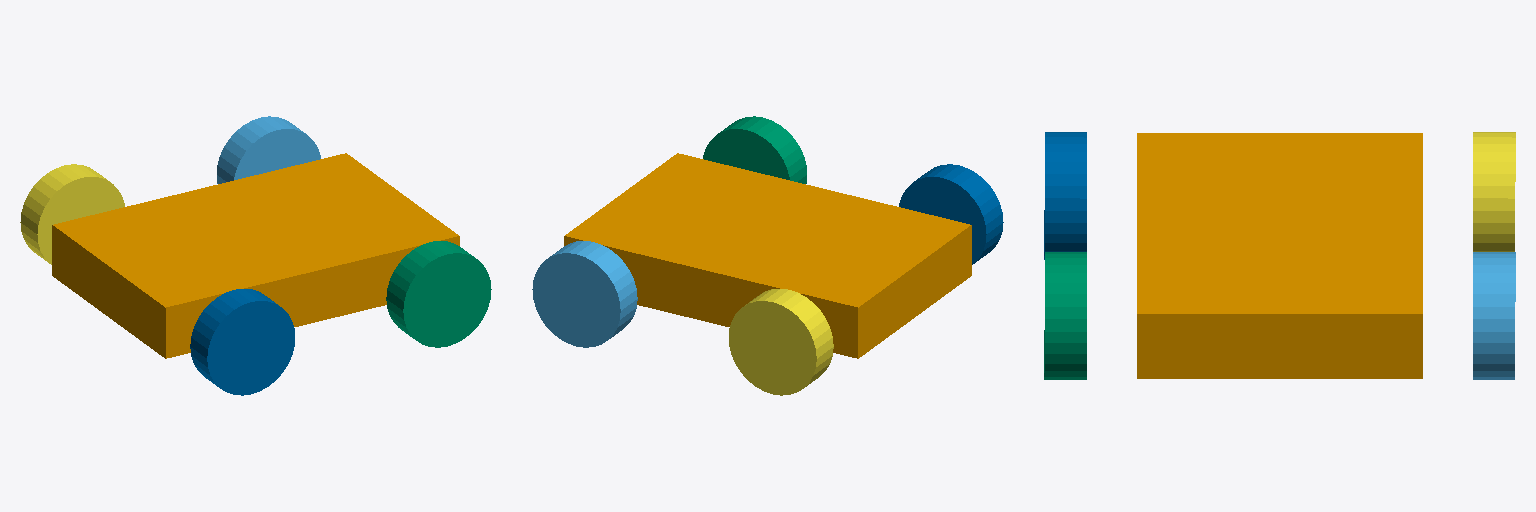
URDF robot description (four_wheels):
<?xml version="1.0"?>
<robot name ="four_wheels">

<material name="blue">
    <color rgba="0 0 0.8 1"/>
</material>
<material name="black">
    <color rgba="0 0 0 1"/>
</material>
<material name="white">
    <color rgba="1 1 1 1"/>
</material>
<material name="red">
    <color rgba="0.8 0 0 1"/>
</material>

<link name = "chassis">
    <visual>
        <geometry>
            <box size="3 2 0.5"/>
        </geometry>
        <!-- <material name="red"/> -->
    </visual>
    <collision>
        <geometry>
            <box size="3 2 0.5"/>
        </geometry>
    </collision>
    <inertial>
        <mass value="20"/>
        <inertia ixx="1.0" ixy="0.0" ixz="0.0" iyy="1.0" iyz="0.0" izz="1.0"/>
    </inertial>
</link>

<link name = "wheel_fl">
    <visual>
        <geometry>
            <cylinder length = "0.3" radius = "0.45"/>
        </geometry>
        <!-- <material name="red"/> -->
    </visual>
    <collision>
        <geometry>
            <cylinder length = "0.3" radius = "0.45"/>
        </geometry>
    </collision>
    <inertial>
        <mass value="1"/>
        <inertia ixx="1.0" ixy="0.0" ixz="0.0" iyy="1.0" iyz="0.0" izz="1.0"/>
    </inertial>
</link>

<link name = "wheel_fr">
    <visual>
        <geometry>
            <cylinder length = "0.3" radius = "0.45"/>
        </geometry>
        <!-- <material name="red"/> -->
    </visual>
    <collision>
        <geometry>
            <cylinder length = "0.3" radius = "0.45"/>
        </geometry>
    </collision>
    <inertial>
        <mass value="1"/>
        <inertia ixx="1.0" ixy="0.0" ixz="0.0" iyy="1.0" iyz="0.0" izz="1.0"/>
    </inertial>
</link>

<link name = "wheel_rl">
    <visual>
        <geometry>
            <cylinder length = "0.3" radius = "0.45"/>
        </geometry>
        <!-- <material name="red"/> -->
    </visual>
    <collision>
        <geometry>
            <cylinder length = "0.3" radius = "0.45"/>
        </geometry>
    </collision>
    <inertial>
        <mass value="1"/>
        <inertia ixx="1.0" ixy="0.0" ixz="0.0" iyy="1.0" iyz="0.0" izz="1.0"/>
    </inertial>
</link>

<link name = "wheel_rr">
    <visual>
        <geometry>
            <cylinder length = "0.3" radius = "0.45"/>
        </geometry>
        <!-- <material name="red"/> -->
    </visual>
    <collision>
        <geometry>
            <cylinder length = "0.3" radius = "0.45"/>
        </geometry>
    </collision>
    <inertial>
        <mass value="1"/>
        <inertia ixx="1.0" ixy="0.0" ixz="0.0" iyy="1.0" iyz="0.0" izz="1.0"/>
    </inertial>
</link>

<joint name = "chassis_wheel_fr" type = "continuous">
    <parent link = "chassis"/>
    <child link = "wheel_fr"/>
    <origin xyz = "1 -1.5 0" rpy = "1.57 0 0" />
    <axis xyz = "0 0 1" />
</joint>

<joint name = "chassis_wheel_fl" type = "continuous">
    <parent link = "chassis"/>
    <child link = "wheel_fl"/>
    <origin xyz = "1 1.5 0" rpy = "1.57 0 0" />
    <axis xyz = "0 0 1" />
</joint>

<joint name = "chassis_wheel_rr" type = "continuous">
    <parent link = "chassis"/>
    <child link = "wheel_rr"/>
    <origin xyz = "-1 -1.5 0" rpy = "1.57 0 0" />
    <axis xyz = "0 0 1" />
</joint>

<joint name = "chassis_wheel_rl" type = "continuous">
    <parent link = "chassis"/>
    <child link = "wheel_rl"/>
    <origin xyz = "-1 1.5 0" rpy = "1.57 0 0" />
    <axis xyz = "0 0 1" />
</joint>

<motor name = "motor_rr">
    <joint name = "chassis_wheel_rr"/>
    <!-- location is with respect to the joint's parent frame -->
    <mass value = "1" xyz = "-1 0.5 0"/>
</motor>

<motor name = "motor_rl">
    <joint name = "chassis_wheel_rl"/>
    <!-- location is with respect to the joint's parent frame -->
    <mass value = "1" xyz = "-1 -0.5 0"/>
</motor>

<extra_mass name = "main_board">
    <link name = "chassis"/>
    <!-- location is in the link's ref frame -->
    <mass value = "1" xyz = "0 0 0"/>
</extra_mass>
</robot>

--- What the picture shows (computed from the rendered views, not written in the file) ---
3 views of the same robot in one strip: view 1: azimuth 30°, elevation 25°; view 2: azimuth 150°, elevation 25°; view 3: azimuth 270°, elevation 25° (orthographic).
Robot: four_wheels — 5 links, 4 joints (4 continuous); root link chassis; default pose: all joints at 0.
Links seen in each view (by area): view 1: chassis, wheel_fr, wheel_rr, wheel_rl, wheel_fl; view 2: chassis, wheel_fl, wheel_rl, wheel_rr, wheel_fr; view 3: chassis, wheel_fl, wheel_fr, wheel_rl, wheel_rr.
Boxes of the visible links, <box> form: chassis: <box>52,153,459,358</box>; wheel_fr: <box>386,241,491,347</box>; wheel_rr: <box>190,289,294,395</box>; wheel_rl: <box>20,164,124,264</box>; wheel_fl: <box>217,116,320,183</box>; chassis: <box>564,153,971,358</box>; wheel_fl: <box>532,241,637,347</box>; wheel_rl: <box>729,289,833,395</box>; wheel_rr: <box>899,164,1003,264</box>; wheel_fr: <box>703,116,806,183</box>; chassis: <box>1137,133,1422,378</box>; wheel_fl: <box>1473,252,1515,379</box>; wheel_fr: <box>1044,252,1086,379</box>; wheel_rl: <box>1473,132,1515,251</box>; wheel_rr: <box>1044,132,1086,259</box>.
Bounding box of the posed robot: 3 × 3.3 × 0.9002 m (x, y, z).
Geometry: primitives only (box / cylinder / sphere), no mesh files.